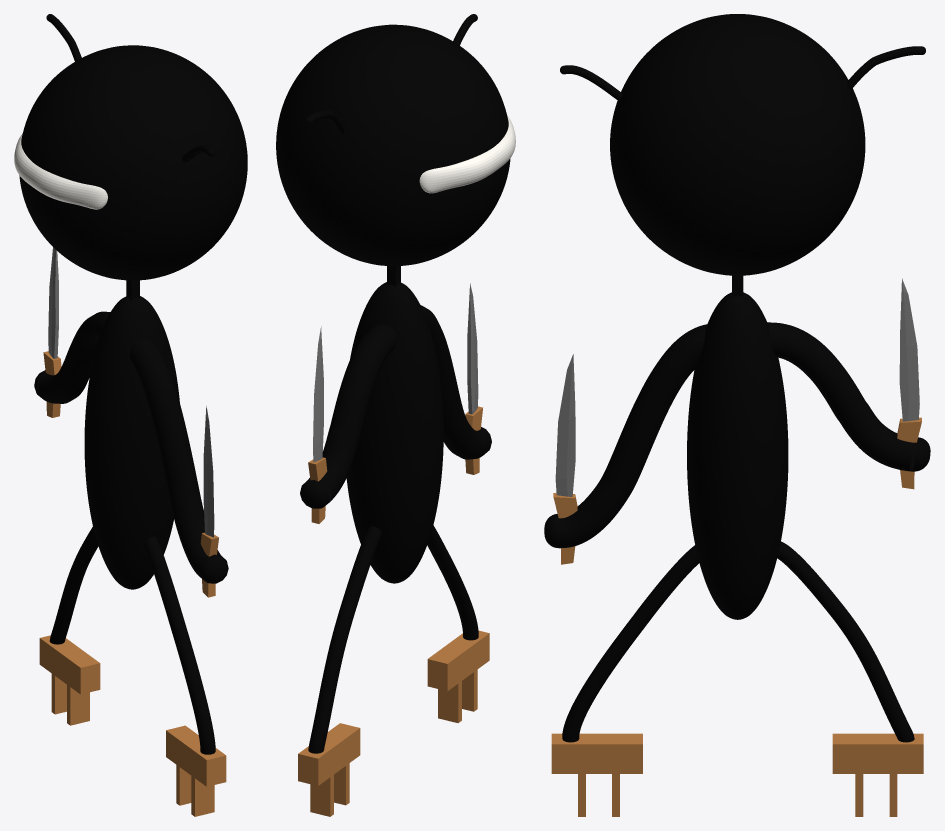
Rendered from enemy3.glb.
The picture shows the model from 3 angles, left to right: view 1: azimuth 30°, elevation 25°; view 2: azimuth 150°, elevation 25°; view 3: azimuth 270°, elevation 25°; orthographic projection. The views are drawn at different scales.
Visible parts, largest first — view 1: Sphere, Sphere.001, BézierCurve, Cube.002, Cube.001, Cube.006, Cube.003, BézierCurve.001, Cube.004, Cube.005; view 2: Sphere, Sphere.001, BézierCurve, Cube.002, Cube.001, Cube.006, Cube.003, BézierCurve.001, Cube.004, Cube.005; view 3: Sphere, Sphere.001, BézierCurve, Cube.002, Cube.006, Cube.003, BézierCurve.001, Cube.004, Cube.005.
Part boxes in pixels (x1,y1,x2,y2): Sphere: (19, 45, 247, 280); Sphere.001: (84, 296, 179, 589); BézierCurve: (34, 311, 228, 754); Cube.002: (39, 635, 226, 816); Cube.001: (14, 134, 107, 209); Cube.006: (203, 406, 214, 537); Cube.003: (48, 247, 58, 358); BézierCurve.001: (46, 14, 214, 162); Cube.004: (43, 351, 61, 417); Cube.005: (200, 532, 218, 597); Sphere: (276, 24, 510, 266); Sphere.001: (346, 282, 443, 583); BézierCurve: (300, 305, 491, 753); Cube.002: (298, 630, 489, 816); Cube.001: (419, 116, 515, 193); Cube.006: (467, 283, 478, 414); Cube.003: (313, 326, 323, 462); BézierCurve.001: (305, 14, 477, 133); Cube.004: (308, 457, 327, 523); Cube.005: (465, 406, 482, 474); Sphere: (610, 14, 865, 275); Sphere.001: (687, 292, 788, 619); BézierCurve: (544, 322, 930, 742); Cube.002: (551, 733, 923, 816); Cube.006: (555, 354, 575, 496); Cube.003: (899, 278, 919, 421); BézierCurve.001: (560, 46, 925, 101); Cube.004: (897, 417, 921, 489); Cube.005: (553, 493, 577, 564).
Bounding box in the file's own units: 0.5999 × 1.99 × 0.8844.
